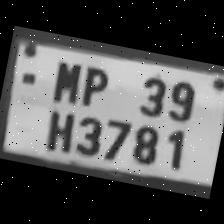1: (156, 121, 193, 172)
3: (68, 108, 106, 159), (132, 69, 172, 117)
7: (95, 111, 133, 165)
8: (127, 116, 165, 168)
9: (161, 73, 201, 123)
H: (38, 102, 79, 155)
M: (46, 52, 87, 105)
P: (74, 59, 114, 109)
